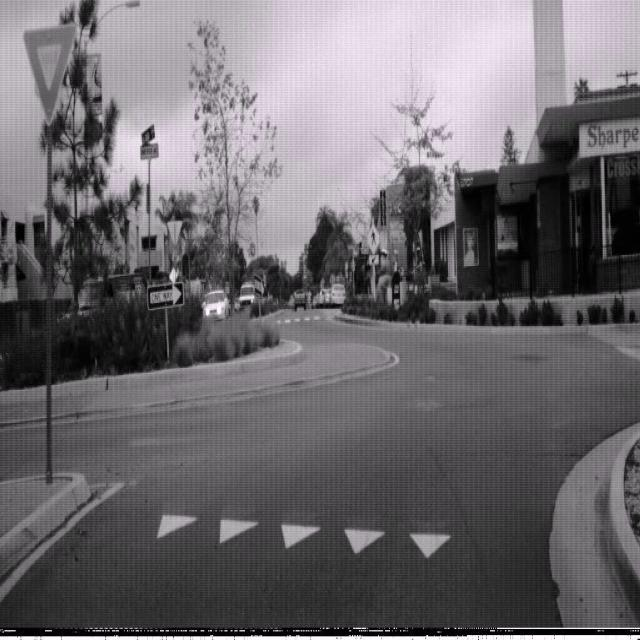pedestrianCrossing: (365, 222, 382, 255)
yield: (23, 21, 76, 125)
